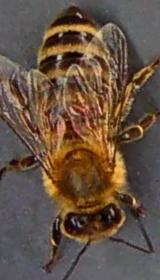varroa_mite: (69, 101, 93, 121)
